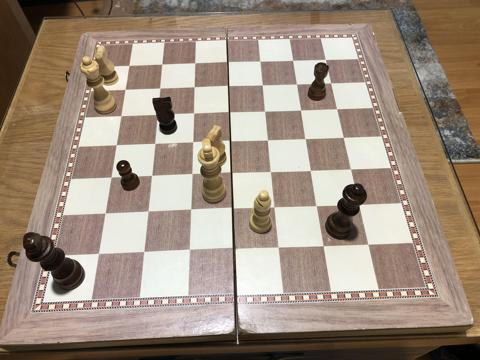xcorner: (288, 55, 300, 67), (255, 56, 267, 68), (190, 58, 202, 70), (157, 59, 169, 71), (124, 60, 136, 72), (326, 78, 338, 90), (292, 79, 304, 91), (257, 80, 269, 92), (223, 81, 235, 93), (189, 82, 201, 94), (155, 83, 167, 95), (120, 84, 132, 96), (296, 105, 308, 117), (260, 106, 272, 118), (224, 107, 236, 119), (188, 108, 200, 120), (116, 111, 128, 123), (338, 132, 350, 144), (300, 133, 312, 145), (263, 135, 275, 147), (225, 136, 237, 148), (187, 137, 199, 149), (111, 140, 123, 152), (345, 164, 357, 176), (305, 165, 317, 177), (226, 168, 238, 180), (186, 169, 198, 181), (146, 171, 158, 183), (106, 172, 118, 184), (353, 199, 365, 211), (311, 201, 323, 213), (269, 202, 281, 214), (227, 204, 239, 216), (185, 205, 197, 217), (143, 207, 155, 219), (100, 208, 112, 220), (362, 239, 374, 251), (317, 240, 329, 252), (273, 242, 285, 254), (139, 247, 151, 259), (94, 248, 106, 260), (321, 54, 332, 66), (223, 57, 234, 69), (152, 110, 164, 121), (149, 139, 161, 150), (266, 167, 278, 178), (228, 244, 240, 255), (184, 245, 195, 257), (332, 104, 343, 115)
